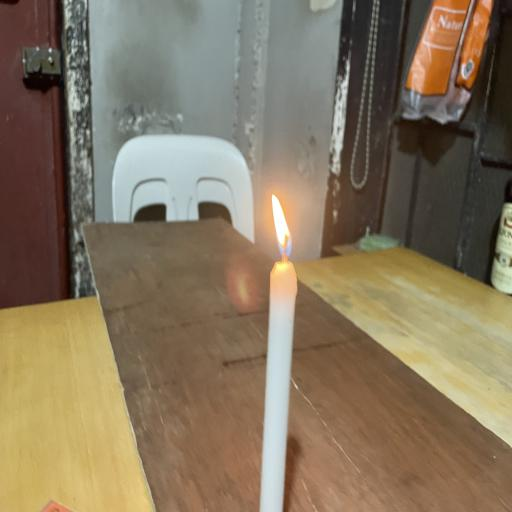fire: (258, 180, 305, 294)
